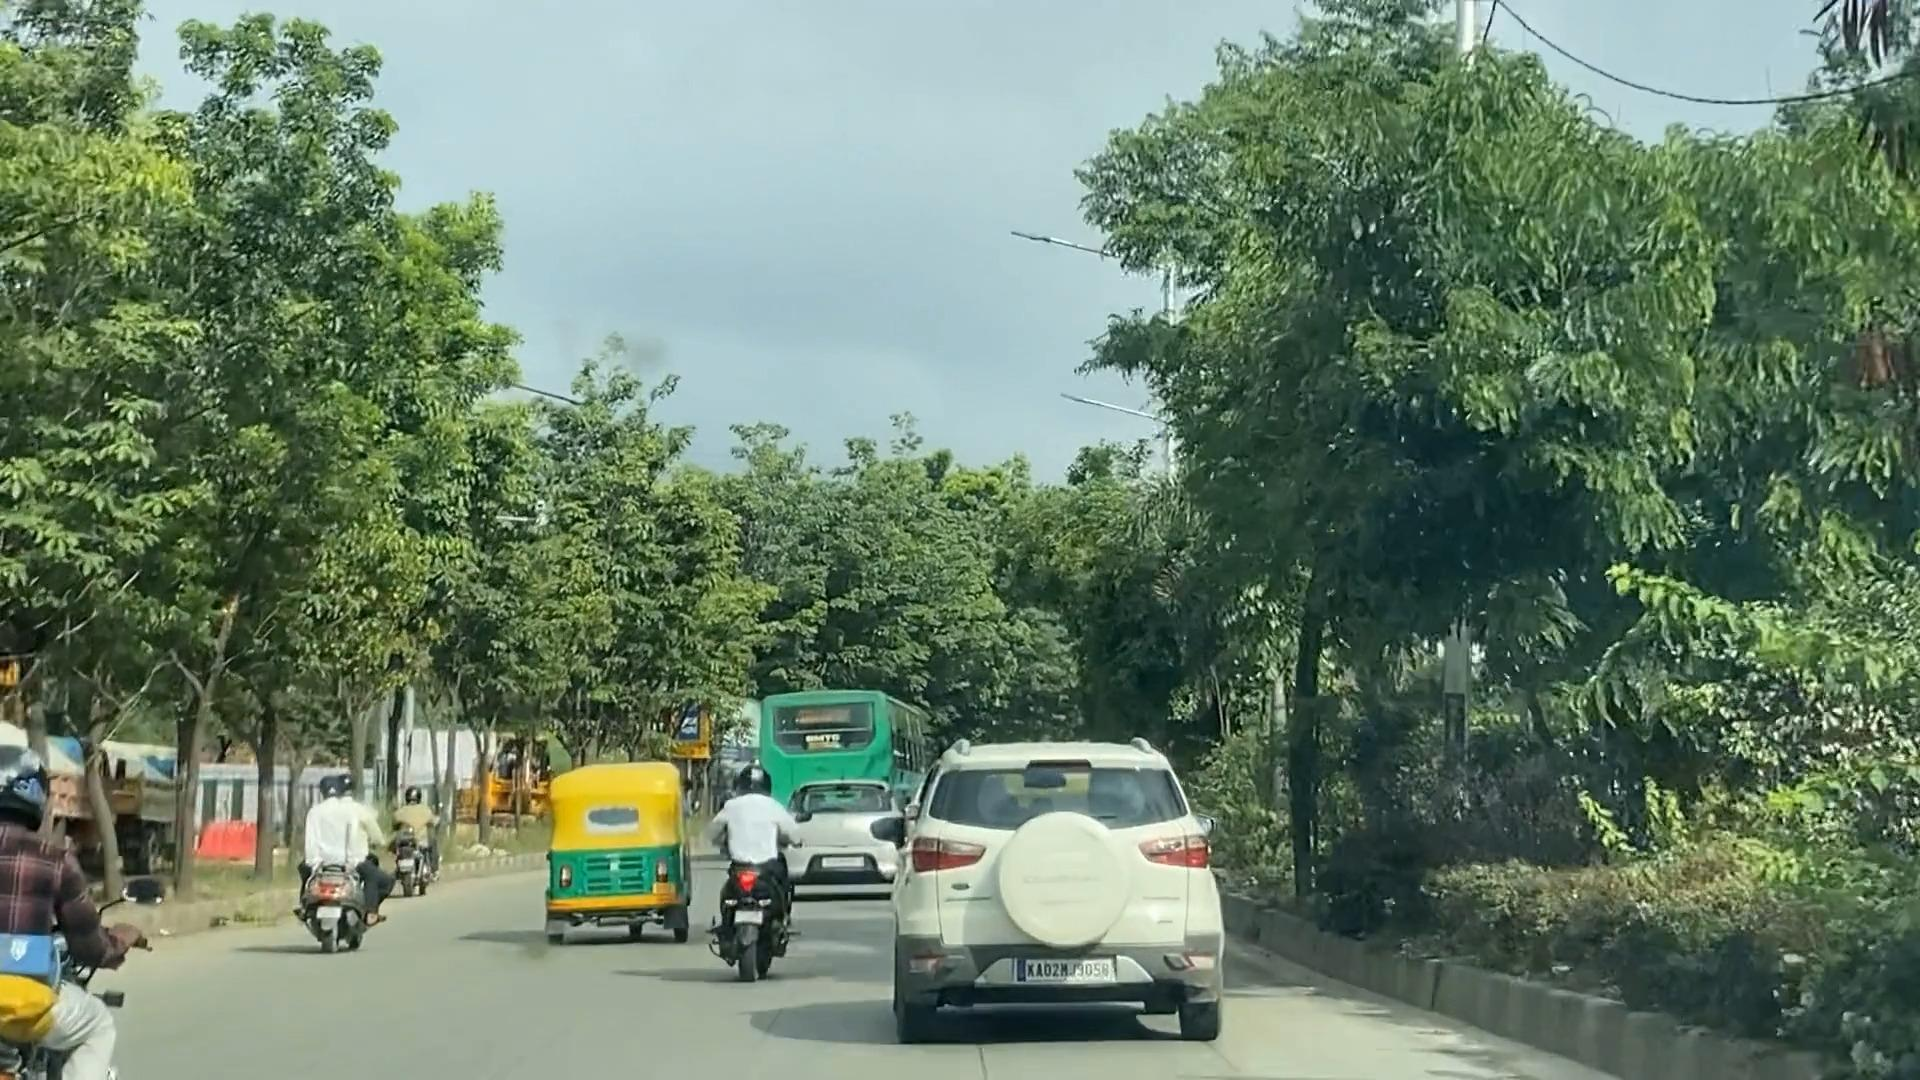LMV: (897, 708, 1262, 1047), (0, 729, 264, 1080), (641, 709, 795, 1021), (253, 699, 409, 1000), (526, 733, 694, 953), (777, 761, 927, 924), (371, 748, 484, 952)
